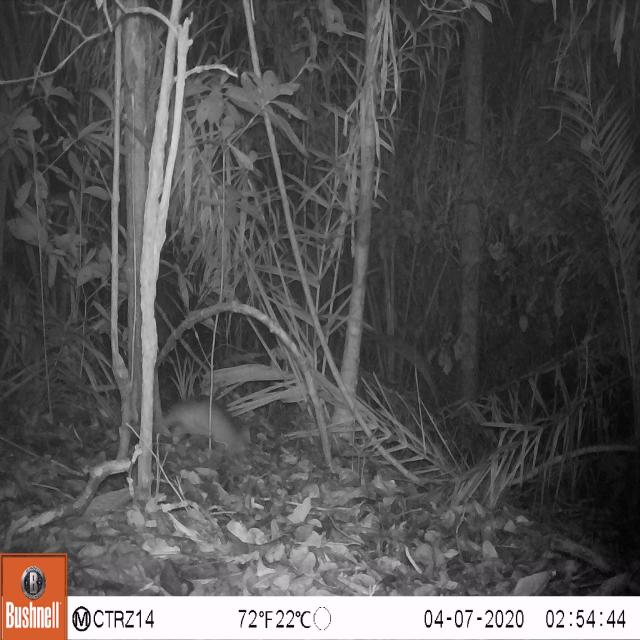Armadillo: (160, 381, 258, 464)
